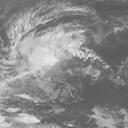cyclone: (1, 2, 101, 99)
